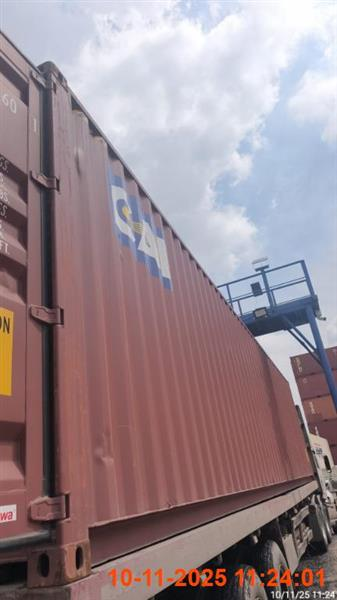broken: (0, 31, 332, 598)
